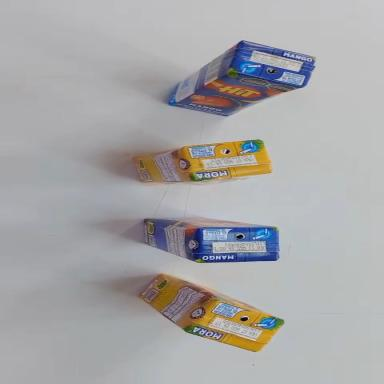HIT-MANGO: (158, 18, 323, 133), (142, 216, 279, 265)
HIT-MORA: (133, 264, 285, 366), (133, 138, 272, 187)
cara_F: (168, 49, 304, 134), (162, 269, 282, 326), (145, 217, 275, 229)
